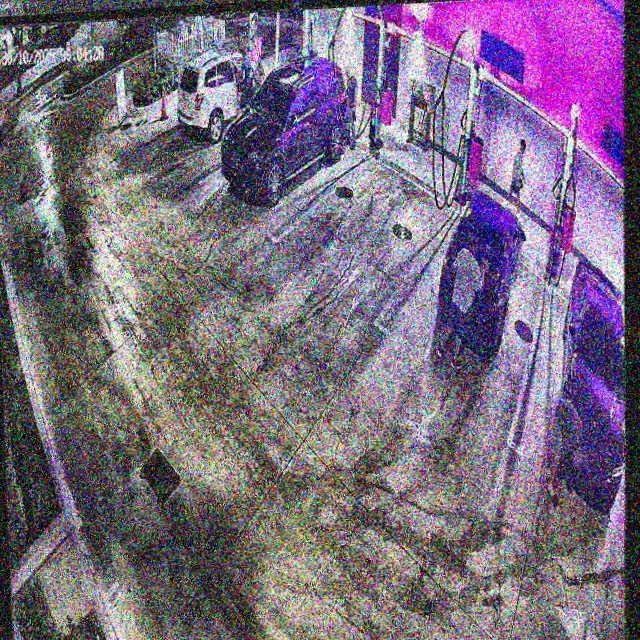Car: (221, 52, 350, 206), (440, 187, 526, 356)
